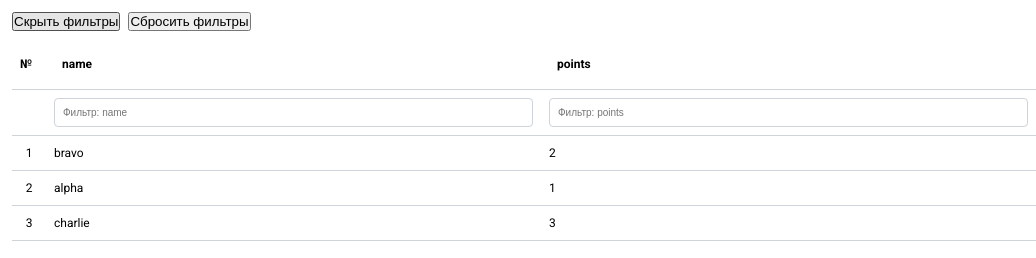
Scenario: DataTable sort cycle › switching to another column starts it at ascending
Click the button "name".
click(77, 64)  # box [54,47,533,81]
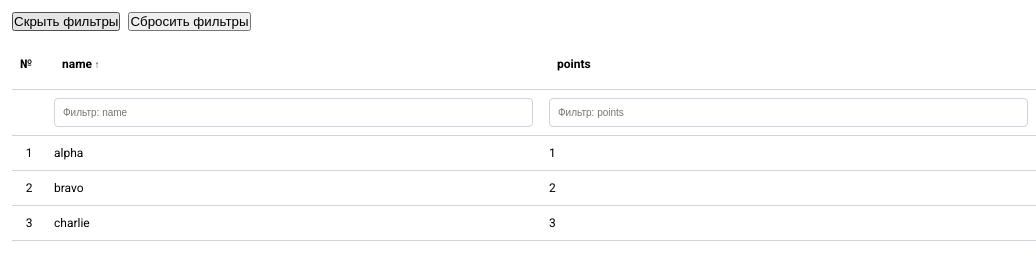
Click the button "name ↑".
click(77, 64)  # box [54,47,533,81]
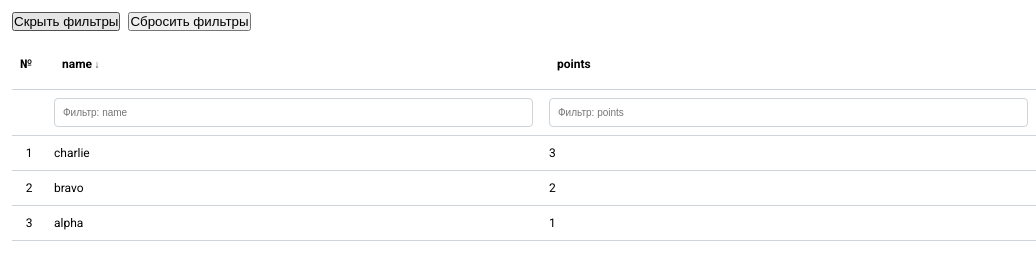
Click the button "points".
click(574, 64)  # box [549,47,1028,81]
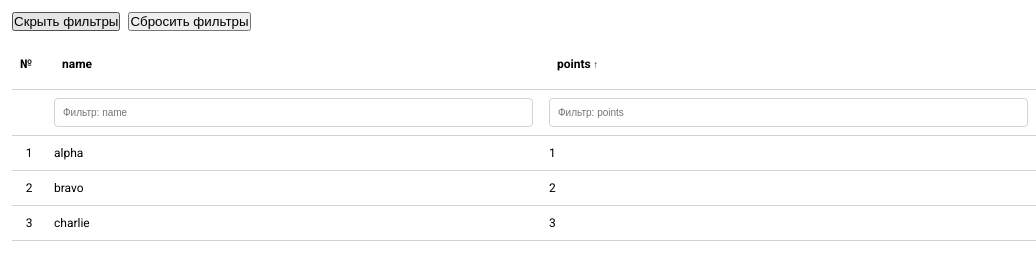
Now the row "1 alpha 1" is shown, box [12,136,1035,170]
